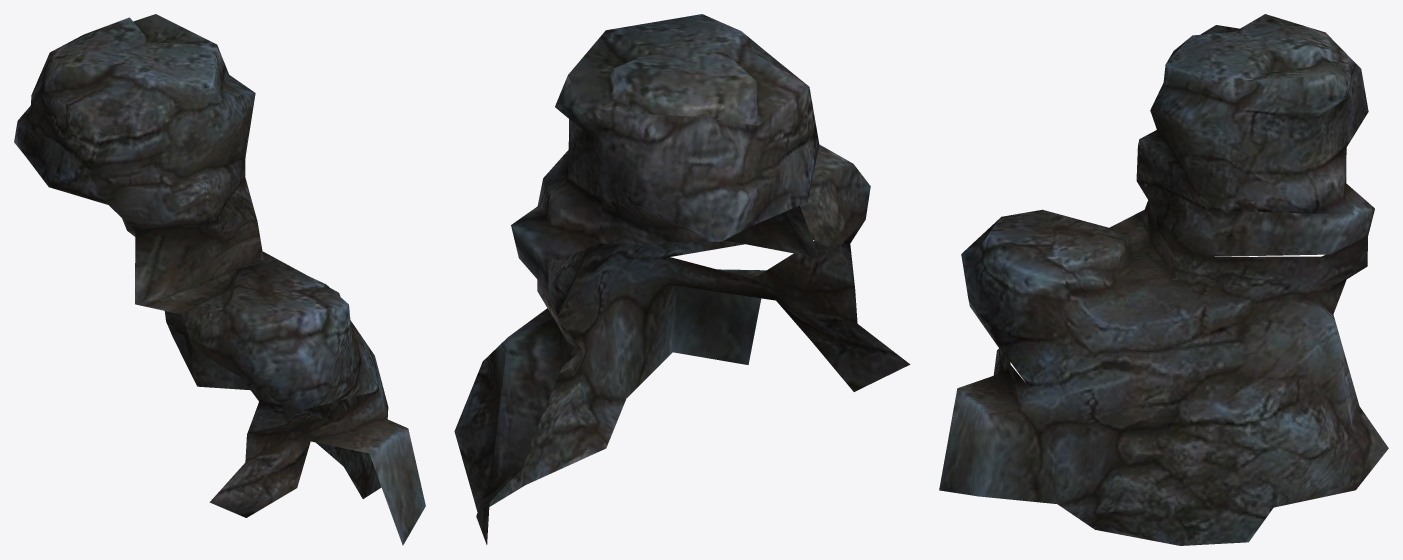
File: S_Rock_Yellow034_35.FBX
3 renders of one model, left to right at view 1: azimuth 30°, elevation 25°; view 2: azimuth 150°, elevation 25°; view 3: azimuth 270°, elevation 25°, orthographic. The views are drawn at different scales.
Visible parts, largest first — view 1: S_Rock_Yellow034_35; view 2: S_Rock_Yellow034_35; view 3: S_Rock_Yellow034_35.
Boxes of the visible parts, box(x1,y1,x2,y2) form: S_Rock_Yellow034_35: box(14, 14, 425, 545); S_Rock_Yellow034_35: box(454, 14, 910, 544); S_Rock_Yellow034_35: box(939, 14, 1388, 545).
Bounding box in the file's own units: 147 × 220 × 230.
